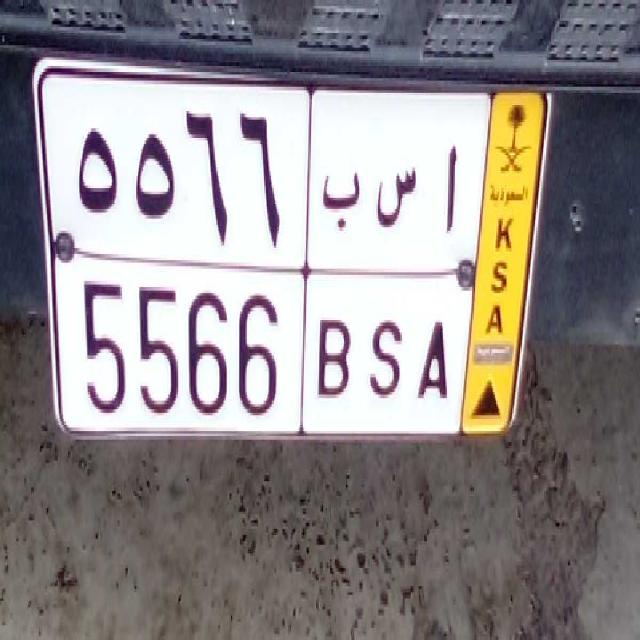license_plate: (67, 250, 461, 442)
